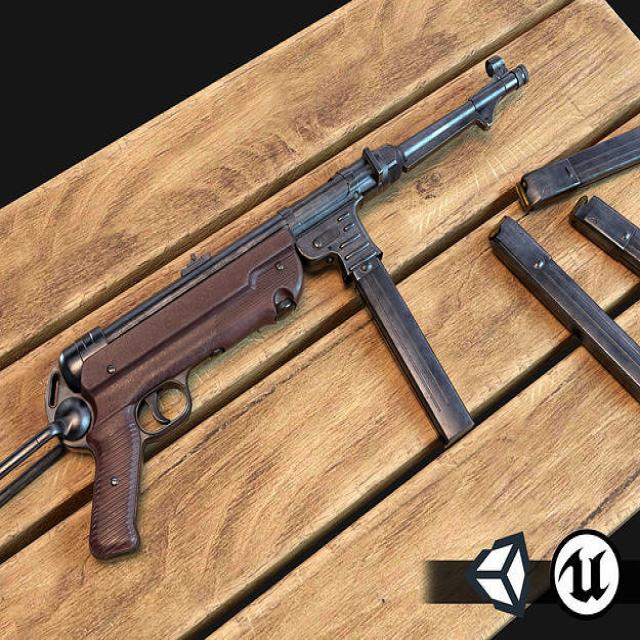SMG: (0, 58, 530, 563)
